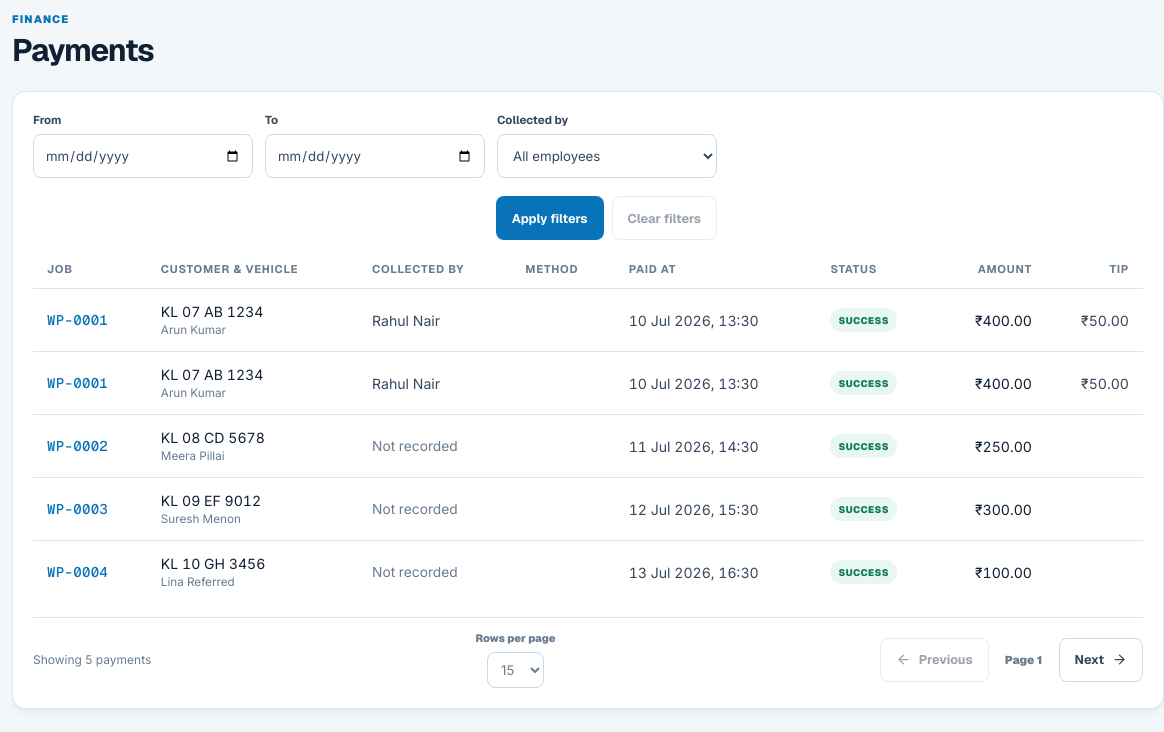
it: Payments — server-side pagination › loads the previous page from the cursor history when Previous is clicked
Click the button "Next" at (1101, 660), box [1059,638,1143,682]
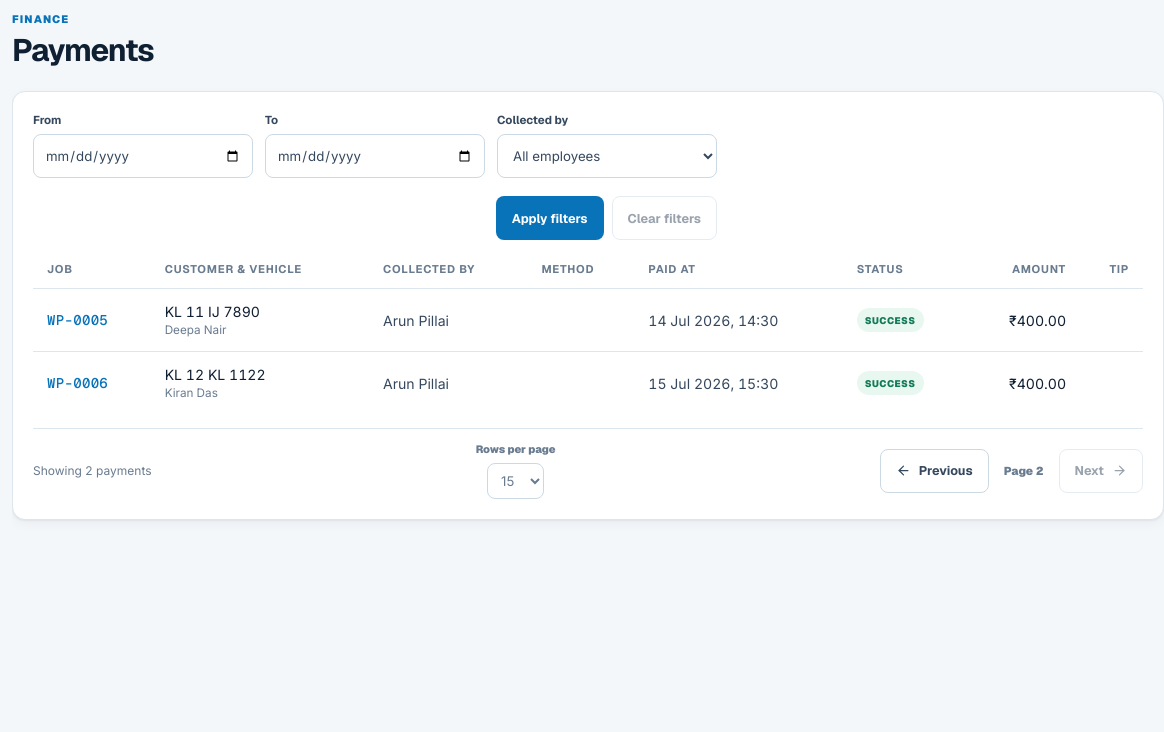
Check: the link "WP-0005" is shown, box [47,311,108,329]
Click the button "Previous" at (934, 471), box [880,449,988,493]
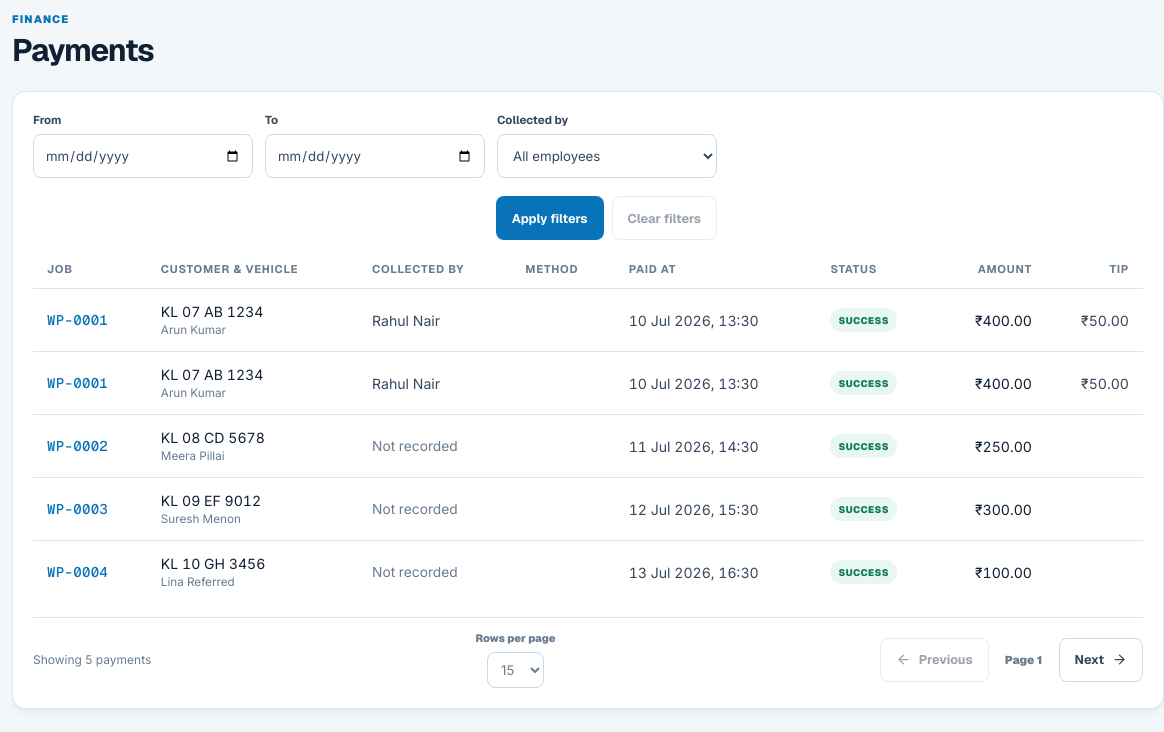
Check: the text "Page 1" is shown, box [1005,652,1042,667]
